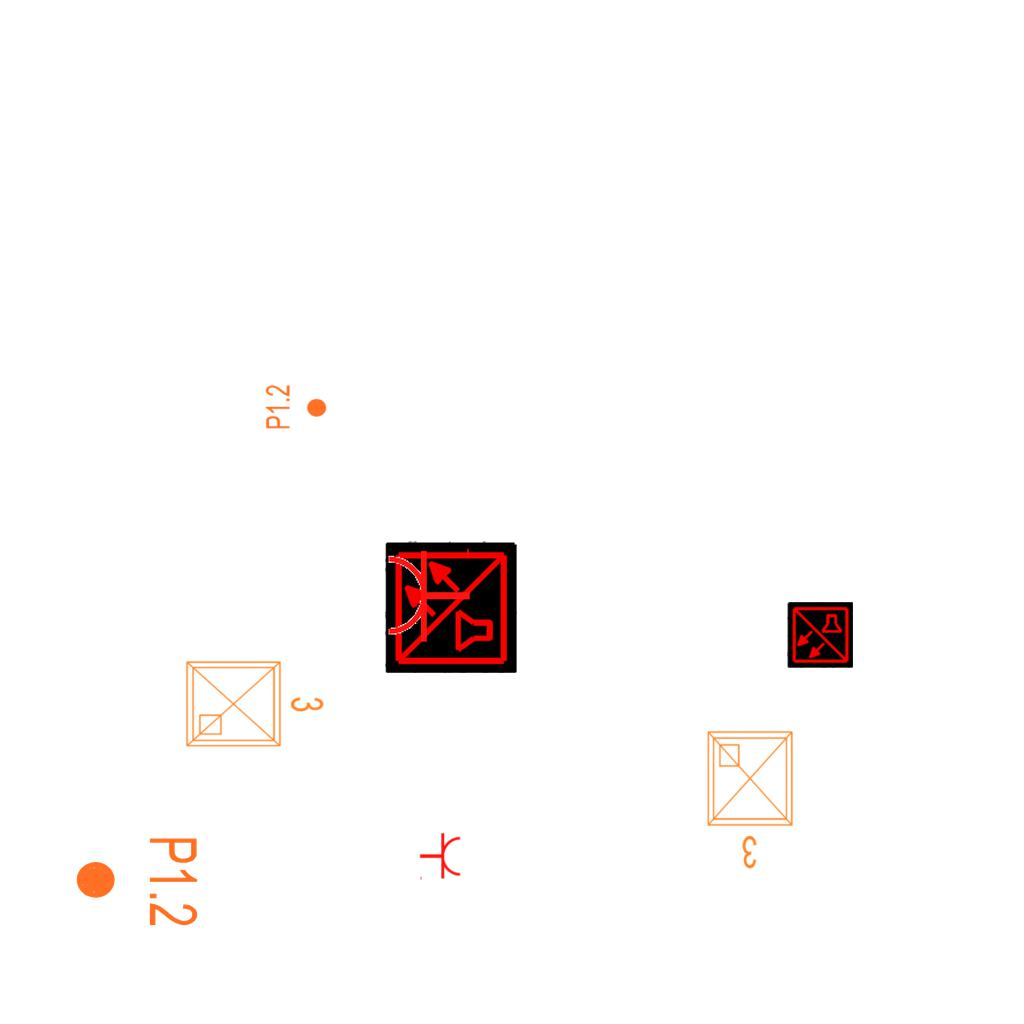Downlight_LED_Einbauleuchten_Flur: (73, 835, 201, 928), (264, 384, 328, 430)
Einbaudownlights_LED_Konferenzraeume: (700, 724, 804, 874), (179, 650, 329, 754)
OKW_Multisensormelder_(Kombination_optischer_Rauch-Kahlenmonoxid_Waerme-Melder): (385, 541, 517, 673), (787, 602, 853, 668)
Schukosteckdose_einfach: (385, 544, 472, 644), (419, 832, 462, 882)
